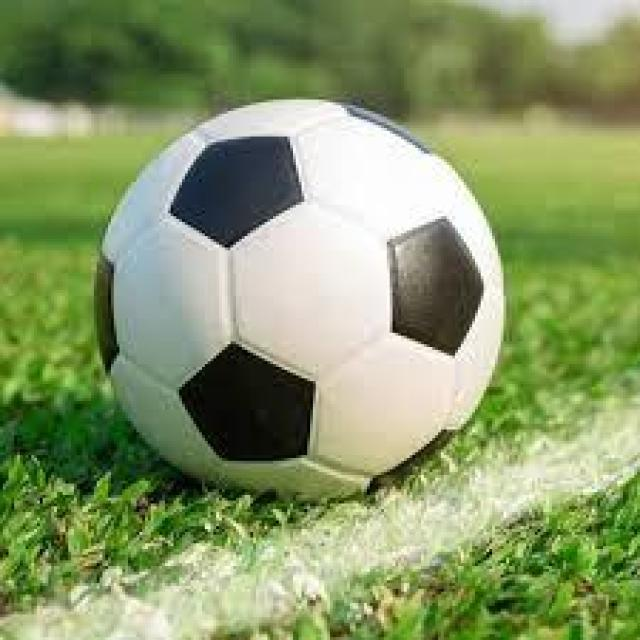Soccer Ball: (97, 100, 506, 503)
